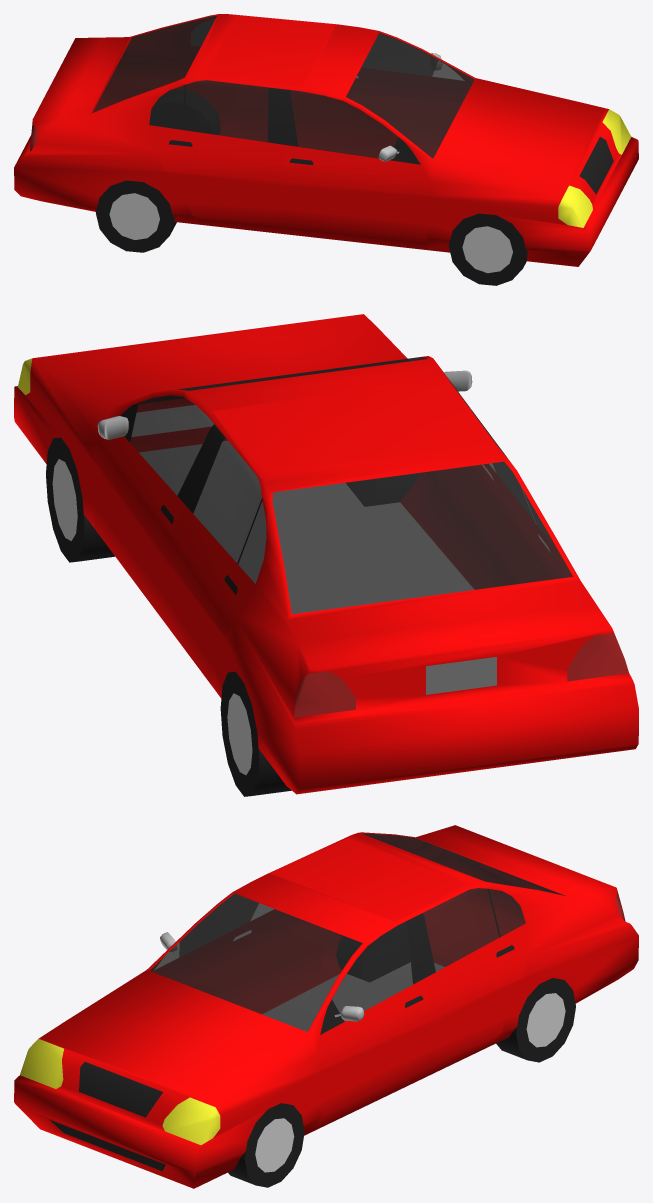
Rendered from car.gltf.
3 renders of one model, top to bottom at view 1: azimuth 30°, elevation 25°; view 2: azimuth 150°, elevation 25°; view 3: azimuth 270°, elevation 25°, orthographic. The views are drawn at different scales.
Parts seen in each view (by area): view 1: car_sedan, car wheel#1 (×3); view 2: car_sedan, car wheel#1 (×3); view 3: car_sedan, car wheel#1 (×3).
Part boxes in pixels (<box>): car_sedan: <box>14,14,638,266</box>; car wheel#1 (×3): <box>96,90,527,285</box>; car_sedan: <box>14,314,638,794</box>; car wheel#1 (×3): <box>46,437,419,796</box>; car_sedan: <box>14,825,638,1188</box>; car wheel#1 (×3): <box>228,922,575,1187</box>.
Size of the model in its own units: 9.47 by 2.99 by 9.11.
